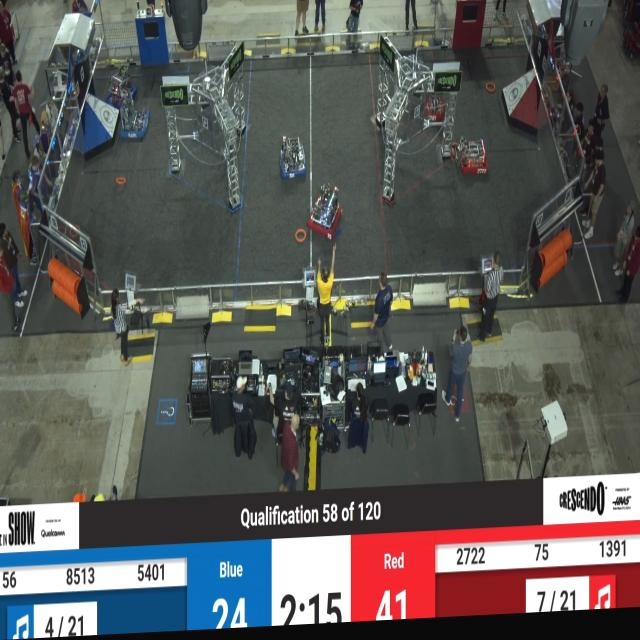Robot: (308, 183, 347, 244), (117, 89, 150, 143), (456, 137, 492, 184), (280, 135, 308, 186), (425, 74, 449, 131), (104, 65, 136, 104)
